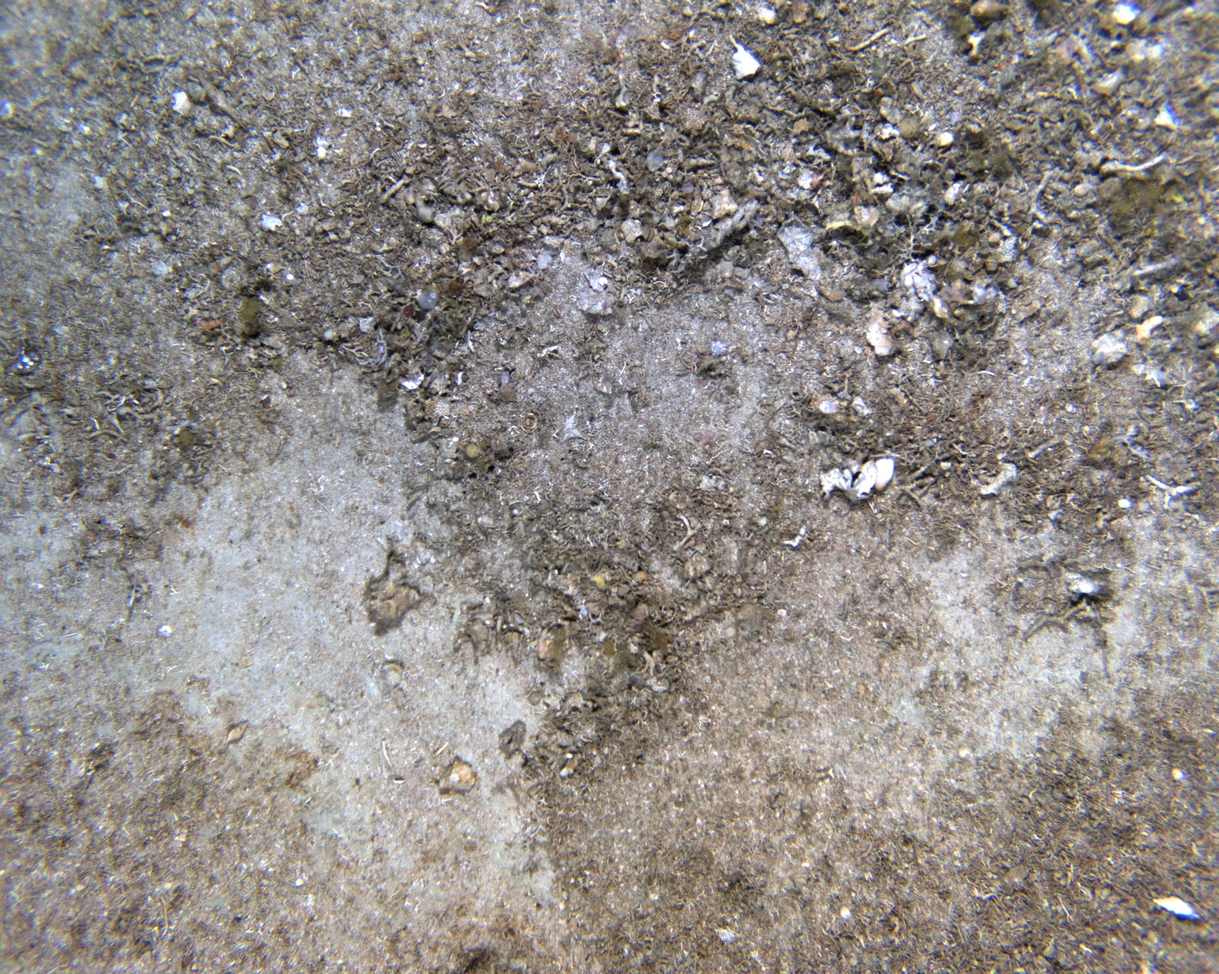Brachionichthyidae: (531, 619, 559, 662)
